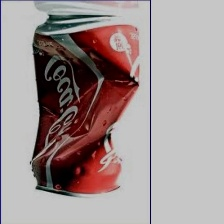can: (24, 11, 153, 201)
